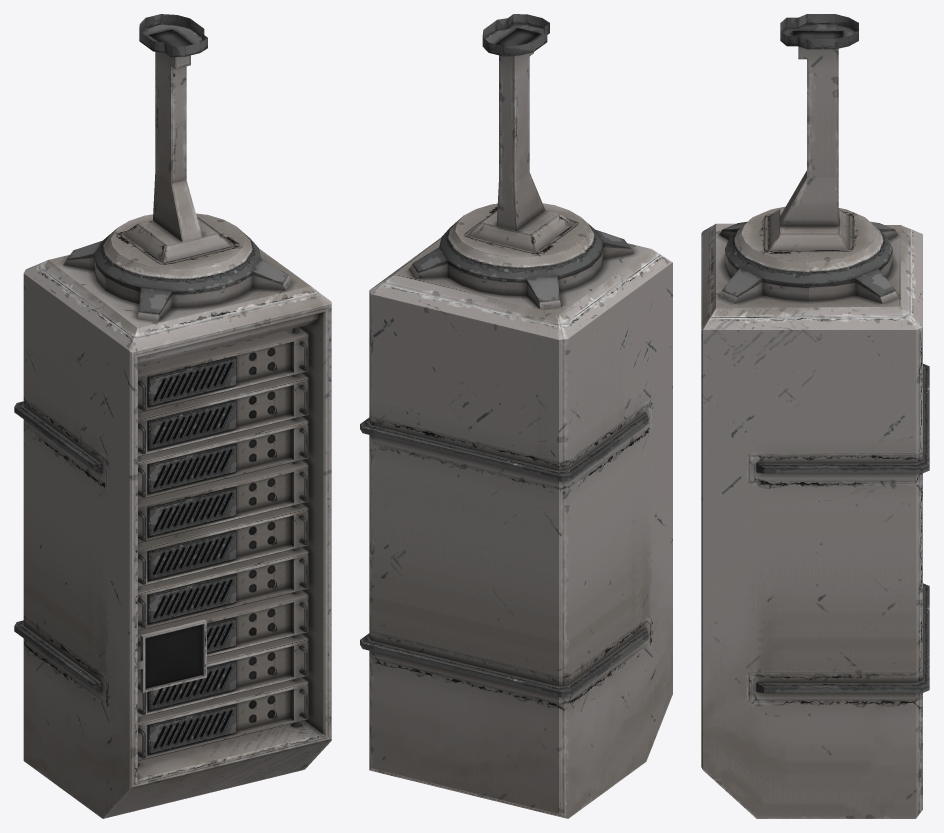
File: server_theta_hanging04.dae
The picture shows the model from 3 angles, left to right: view 1: azimuth 30°, elevation 25°; view 2: azimuth 150°, elevation 25°; view 3: azimuth 270°, elevation 25°; orthographic projection.
Visible parts, largest first — view 1: server_hanging; view 2: server_hanging; view 3: server_hanging.
Part boxes in pixels (box(x1,y1,x2,y2)): server_hanging: box(14, 14, 331, 818); server_hanging: box(360, 14, 672, 818); server_hanging: box(701, 14, 929, 818).
Bounding box in the file's own units: 1.7 × 5.64 × 1.57.
